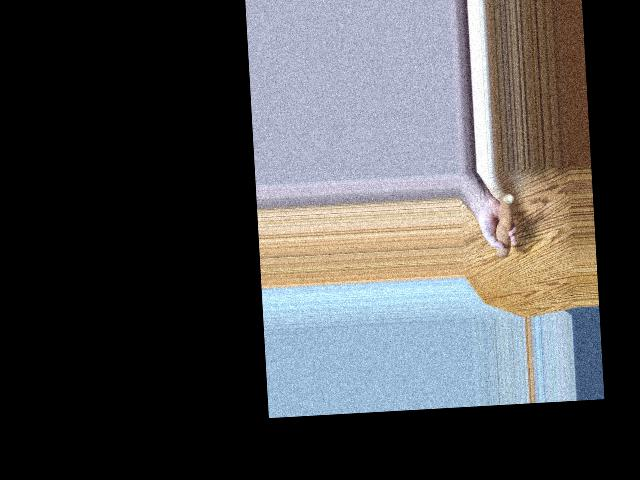sweet_potato: (489, 192, 515, 263)
